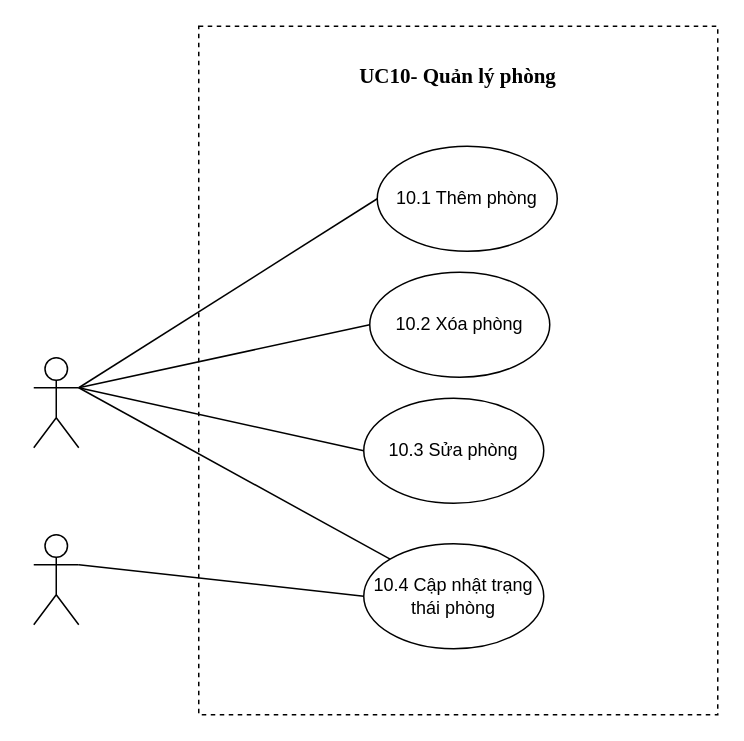
Some shapes in this 744 by 741 pixel diagram are drawn without their labels. The shapes that lost their labels are listed below. From the top down, each one's centre as x and y in pixels, then its label:
At point 55,402: "Quản lý".
At point 55,579: "Lễ tân".
